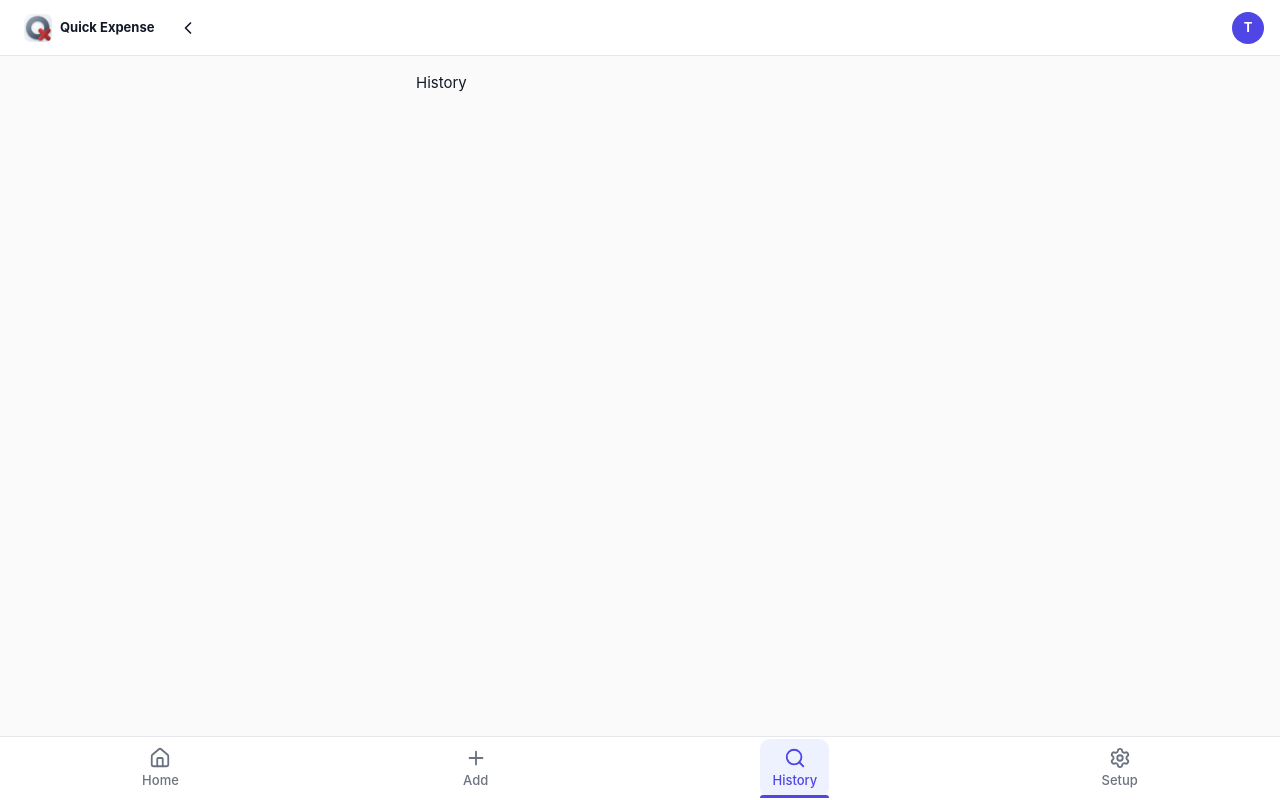
Scenario: Layout › does not expose the Admin view entry to non-admin users
Click the button named "Account menu" at (1248, 28), box [1232,12,1264,44]
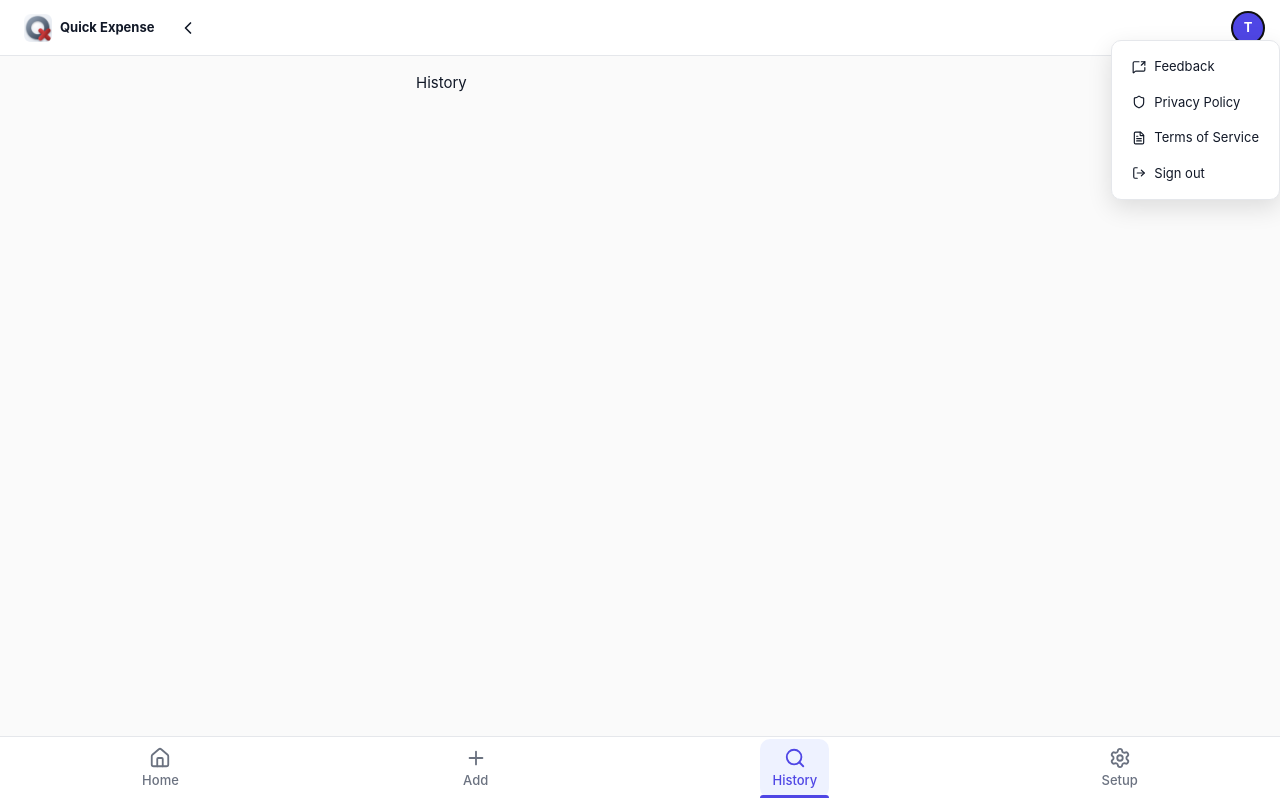
Expected: the button "Sign out" is shown, [1120,156,1271,191]
